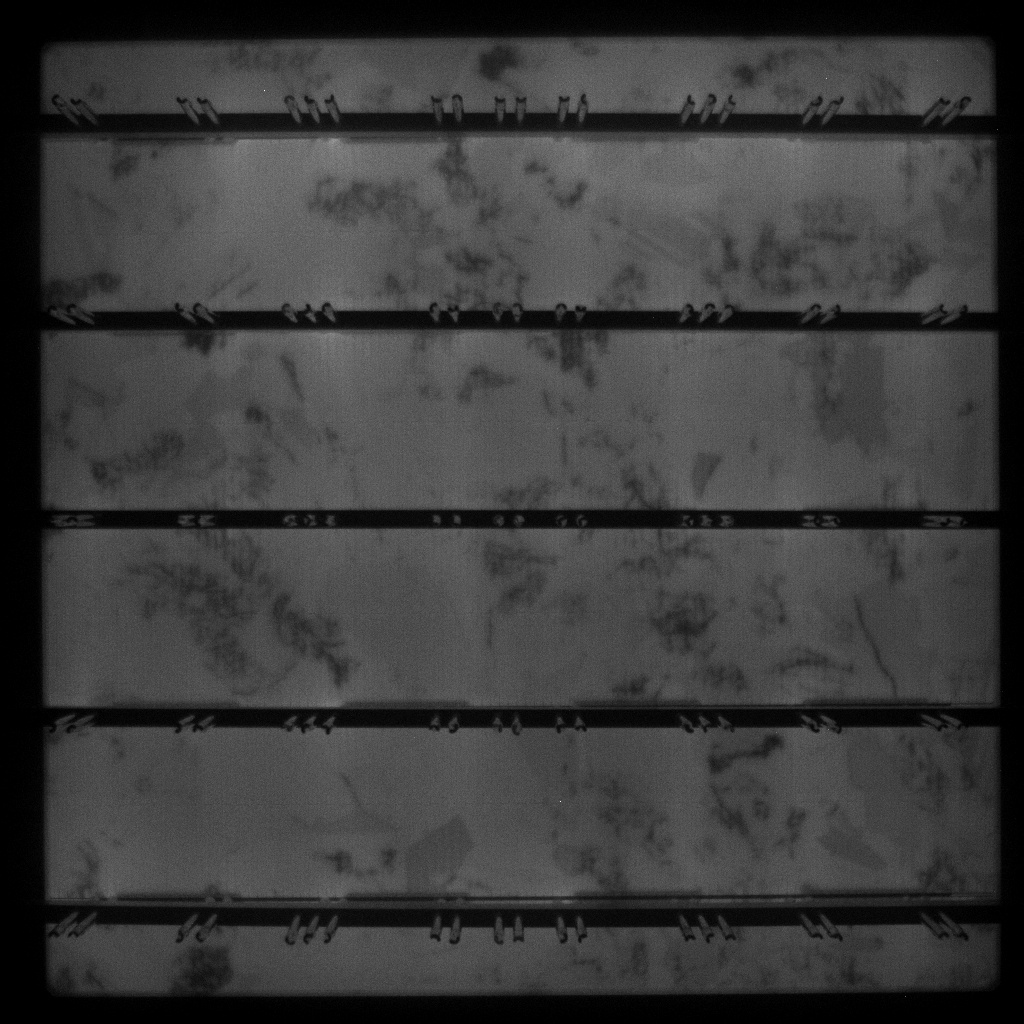crack: (849, 593, 902, 696)
